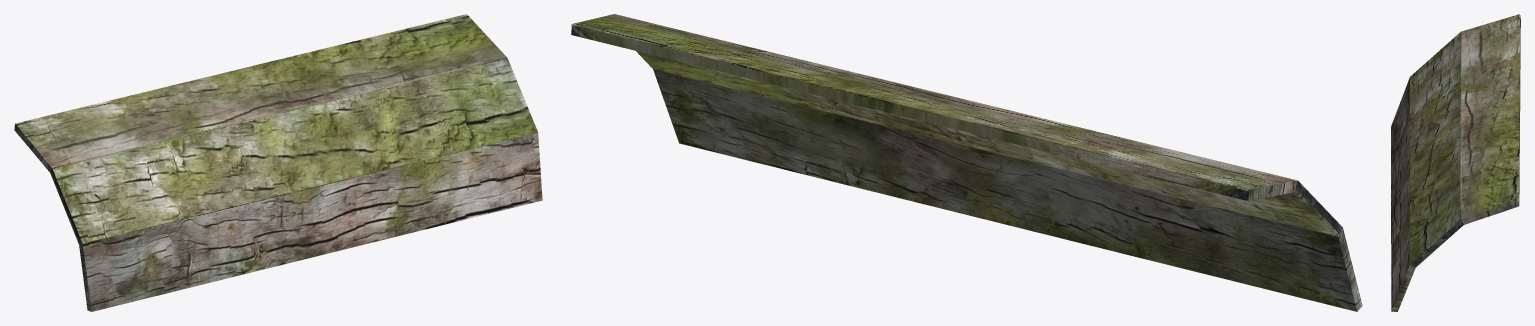
The model's file is little-curve-colider.fbx.
3 renders of one model, left to right at view 1: azimuth 30°, elevation 25°; view 2: azimuth 150°, elevation 25°; view 3: azimuth 270°, elevation 25°, orthographic. The views are drawn at different scales.
Parts seen in each view (by area): view 1: Ramp; view 2: Ramp; view 3: Ramp.
Part boxes in pixels (x1,y1,x2,y2): Ramp: [14, 14, 542, 311]; Ramp: [571, 14, 1362, 311]; Ramp: [1391, 14, 1520, 311].
Size of the model in its own units: 203 by 56.68 by 58.78.
